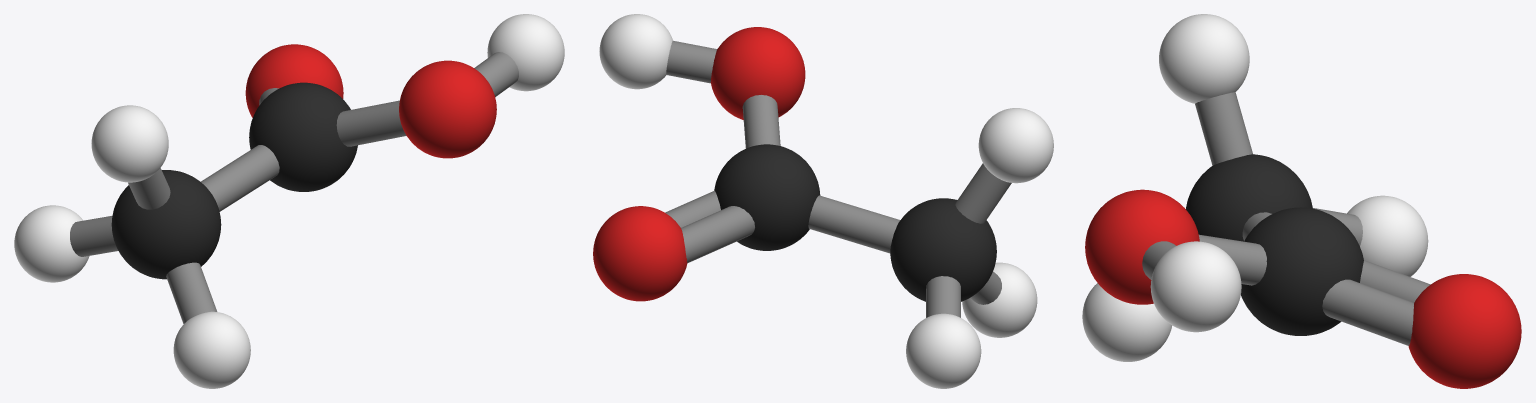
The model's file is ethansaeure.glb.
The picture shows the model from 3 angles, left to right: view 1: azimuth 30°, elevation 25°; view 2: azimuth 150°, elevation 25°; view 3: azimuth 270°, elevation 25°; orthographic projection. The views are drawn at different scales.
Visible parts, largest first — view 1: C_1, C_0, O_3, H_5, H_6, H_4, H_7, O_2, B0, B2, B5, B3 (+2 smaller); view 2: C_1, C_0, O_2, O_3, H_4, H_5, H_7, H_6, B0, B1b, B4, B2 (+4 smaller); view 3: C_1, O_2, O_3, C_0, H_7, H_5, H_6, H_4, B1a, B4, B2, B1b (+2 smaller).
Boxes of the visible parts, x1,y1,x2,y2 form: C_1: (249,82,357,191); C_0: (111,170,221,279); O_3: (399,60,496,158); H_5: (91,105,168,182); H_6: (173,311,250,388); H_4: (14,205,89,282); H_7: (487,14,564,91); O_2: (245,44,343,117); B0: (201,145,279,211); B2: (336,100,406,146); B5: (166,262,217,323); B3: (70,215,118,256); C_1: (714,144,820,250); C_0: (890,198,996,301); O_2: (593,206,687,301); O_3: (710,27,805,119); H_4: (906,313,981,388); H_5: (978,108,1053,183); H_7: (599,14,672,89); H_6: (962,262,1037,337); B0: (808,195,900,253); B1b: (681,206,754,263); B4: (955,163,1011,223); B2: (742,95,780,148); C_1: (1241,207,1363,335); O_2: (1408,274,1521,388); O_3: (1085,189,1199,304); C_0: (1186,154,1312,241); H_7: (1150,241,1241,332); H_5: (1159,14,1249,103); H_6: (1082,283,1172,361); H_4: (1347,195,1428,276); B1a: (1322,279,1413,345); B4: (1195,92,1252,165); B2: (1199,234,1266,285); B1b: (1360,260,1430,302).
Size of the model in its own units: 4.13 by 2.27 by 2.9.
